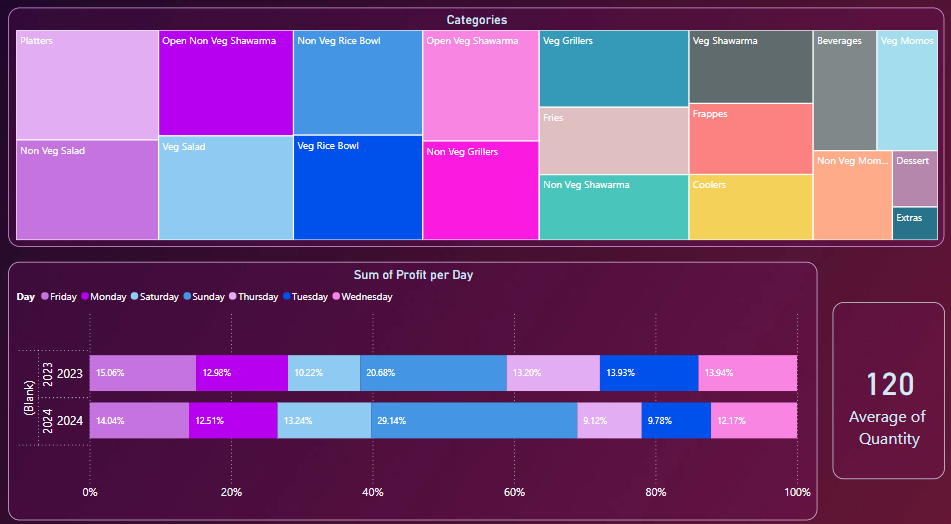

This screenshot's page, from the dashboard's own definition file:
{"tool":"powerbi","page":{"name":"Page 5","canvas":[1280,720],"ordinal":4},"visuals":[{"type":"hundredPercentStackedBarChart","title":"Sum of Profit per Day","fields":{"Category":["Menu csv.Category","Sales_data.Date.Variation.Date Hierarchy.Year","Sales_data.Date.Variation.Date Hierarchy.Year","Sales_data.Date.Variation.Date Hierarchy.Quarter","Sales_data.Date.Variation.Date Hierarchy.Month","Sales_data.Date.Variation.Date Hierarchy.Day"],"Series":["Sales_data.Day"],"Y":["Sum(Sales_data.Profit)"]},"box":[16.7,359.4,1081.3,345.8],"z":0},{"type":"treemap","title":"Categories  ","fields":{"Group":["Menu csv.Category"],"Values":["Avg(Menu csv.Price)"]},"box":[16.7,19.7,1251.2,320],"z":1000},{"type":"card","fields":{"Values":["Avg(Sales_data.Quantity)"]},"box":[1117.7,412.5,150.1,236.6],"z":2000}]}

Visuals, with their boxes in screenshot pixels (x1, y1, x2, y2), scaled from the page's 1280x720 canvas onto the 951x524 screenshot:
"Sum of Profit per Day" hundredPercentStackedBarChart: x1=12 y1=262 x2=816 y2=513
"Categories  " treemap: x1=12 y1=14 x2=942 y2=247
card - Avg(Sales_data.Quantity): x1=830 y1=300 x2=942 y2=472
